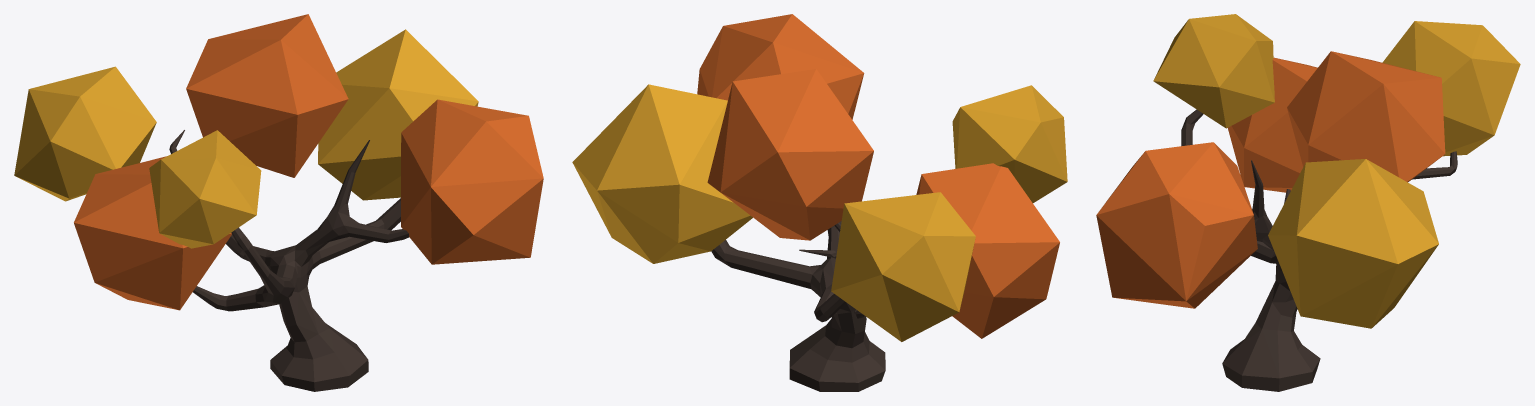
The model's file is Oak_Tree_Autumn.fbx.
The picture shows the model from 3 angles, left to right: view 1: azimuth 30°, elevation 25°; view 2: azimuth 150°, elevation 25°; view 3: azimuth 270°, elevation 25°; orthographic projection. The views are drawn at different scales.
Parts seen in each view (by area): view 1: Oak_Tree_Autumn; view 2: Oak_Tree_Autumn; view 3: Oak_Tree_Autumn.
Part boxes in pixels (x1,y1,x2,y2): Oak_Tree_Autumn: (14, 14, 543, 391); Oak_Tree_Autumn: (572, 14, 1067, 391); Oak_Tree_Autumn: (1096, 14, 1520, 391).
Bounding box in the file's own units: 827 × 600 × 717.
